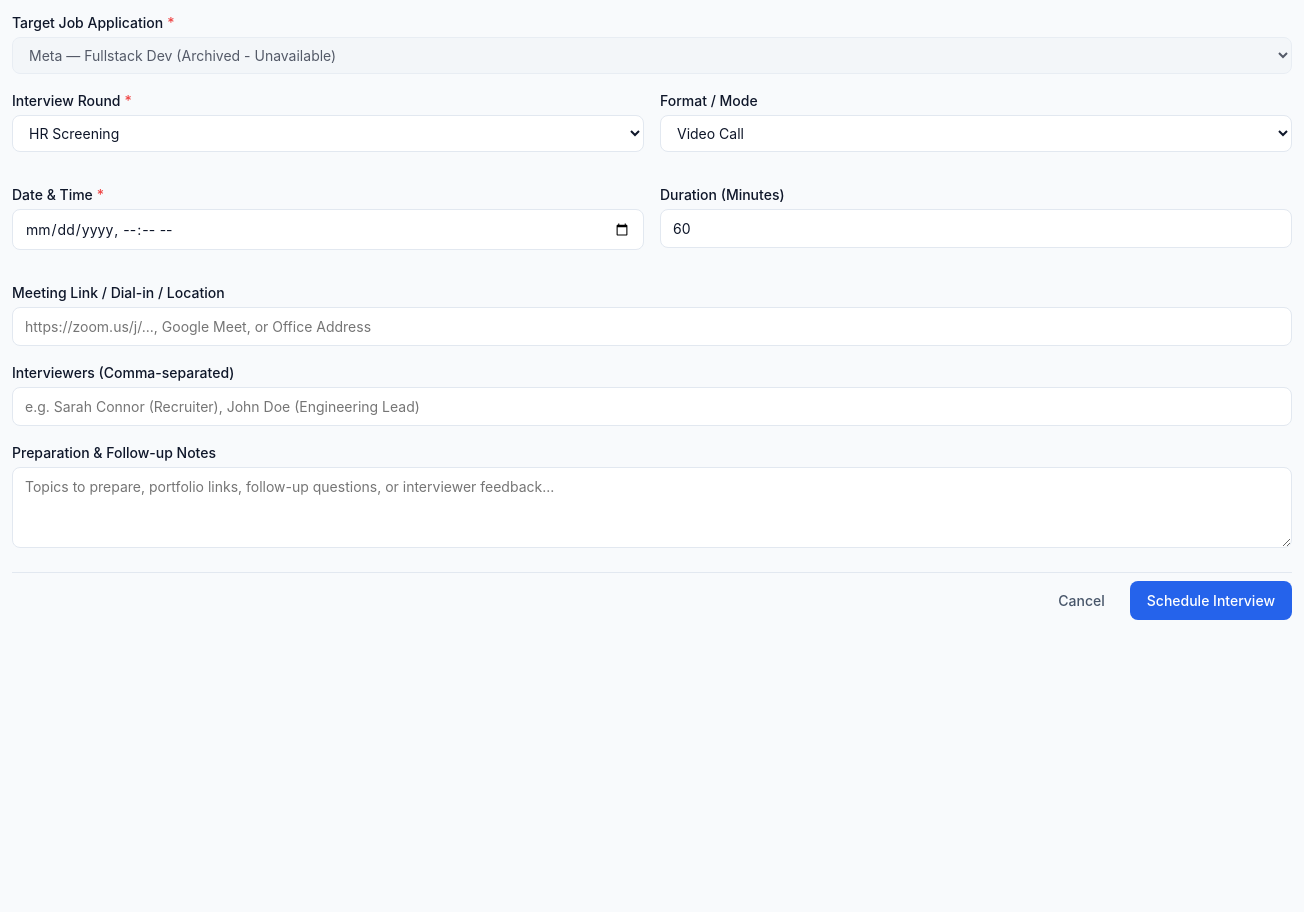
Test: InterviewForm Component (Phase 6.5E) › prevents scheduling against an archived application
Type "2026-10-30T10:00" into the field labelled "Date & Time *" at (328, 230), box [12,209,644,250]
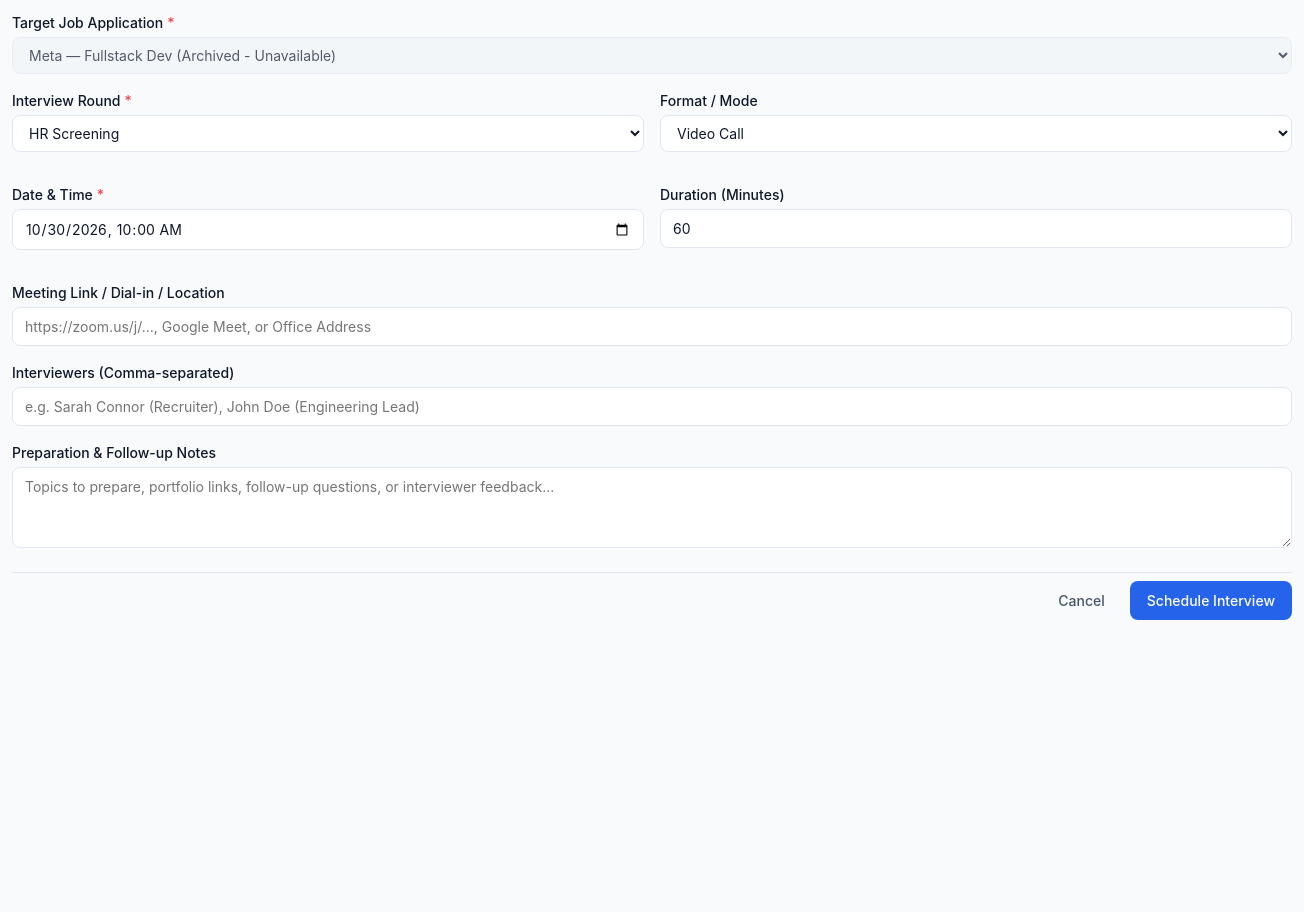
Click the button "Schedule Interview" at (1211, 600), box [1130,581,1292,620]
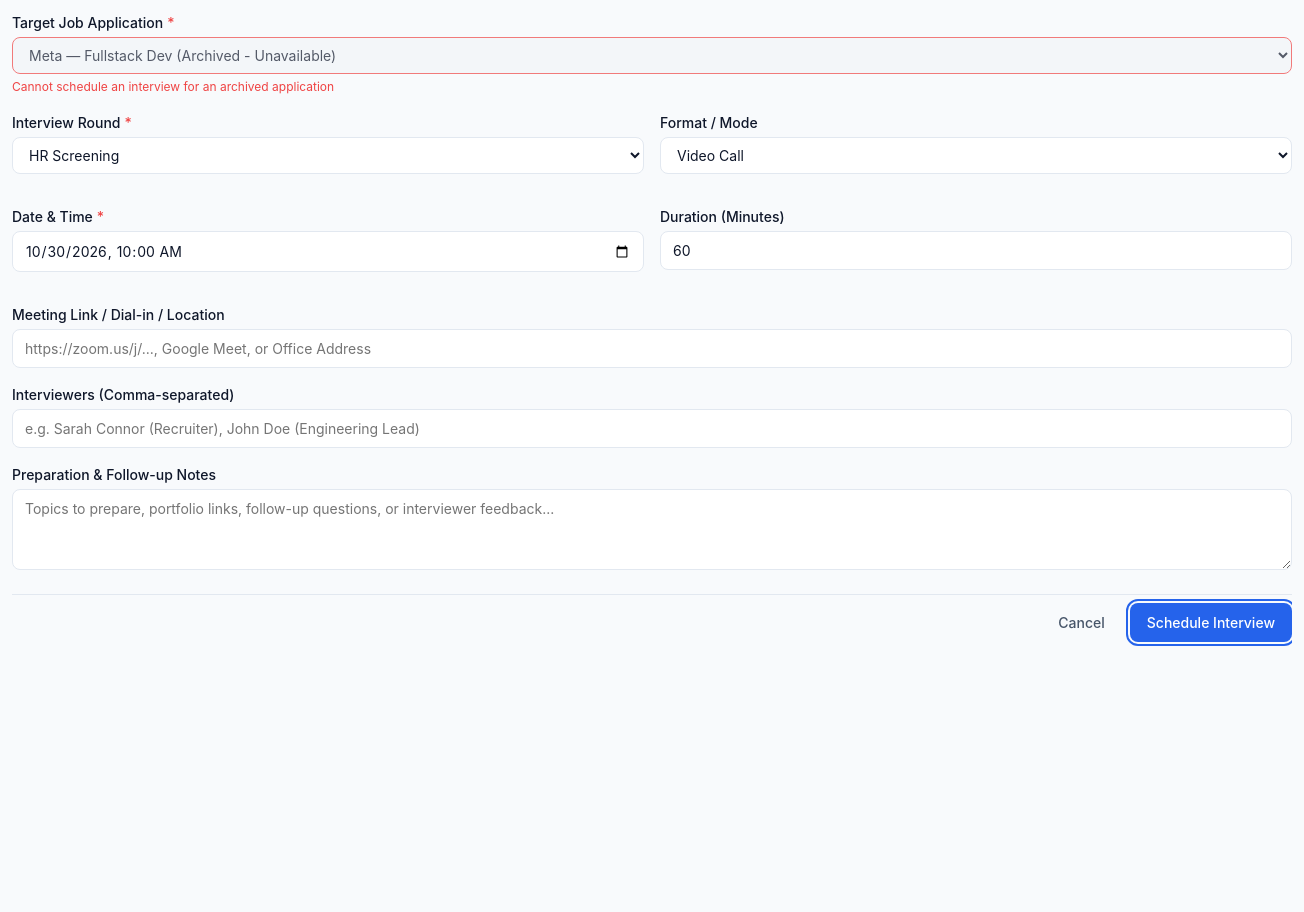
Expected: the text "Cannot schedule an interview for an archived application" is shown, [12,79,334,94]
